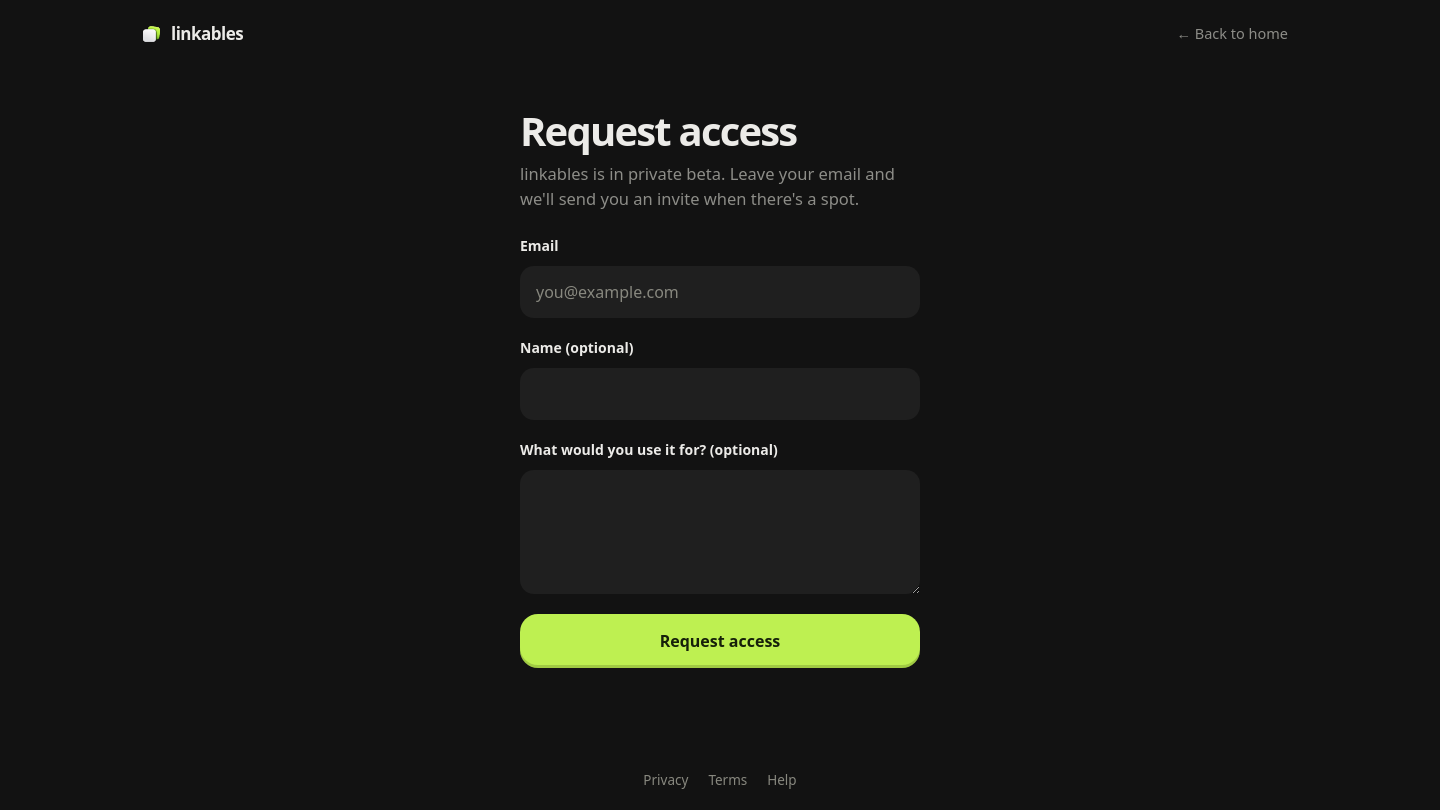
Scenario: request access › explains a NETWORK_ERROR failure and keeps the form
The image size is (1440, 810).
In the field labelled "Email": (720, 292) [520, 266, 920, 318], type "sam@example.com"
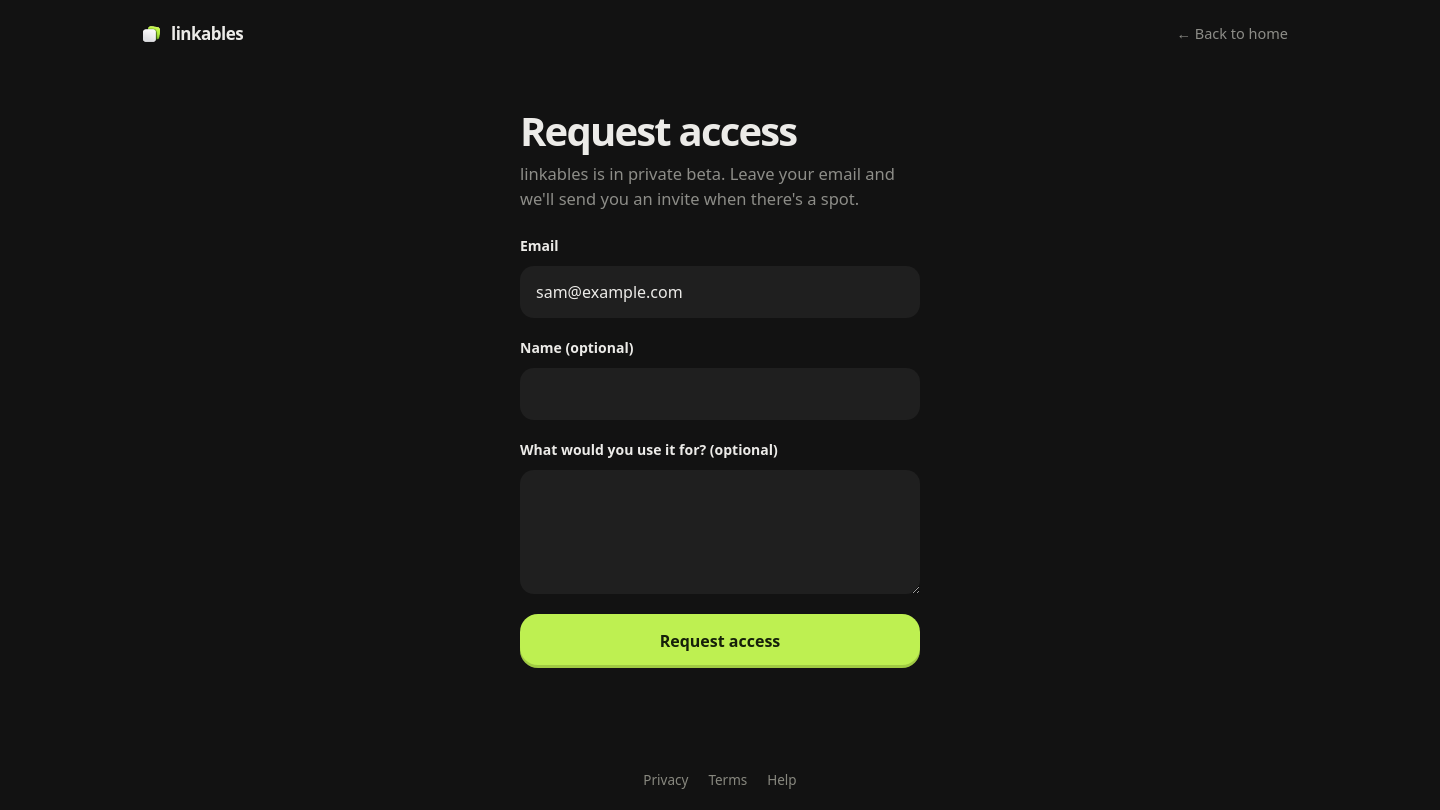
Click the button "Request access": click(720, 641) [520, 614, 920, 668]
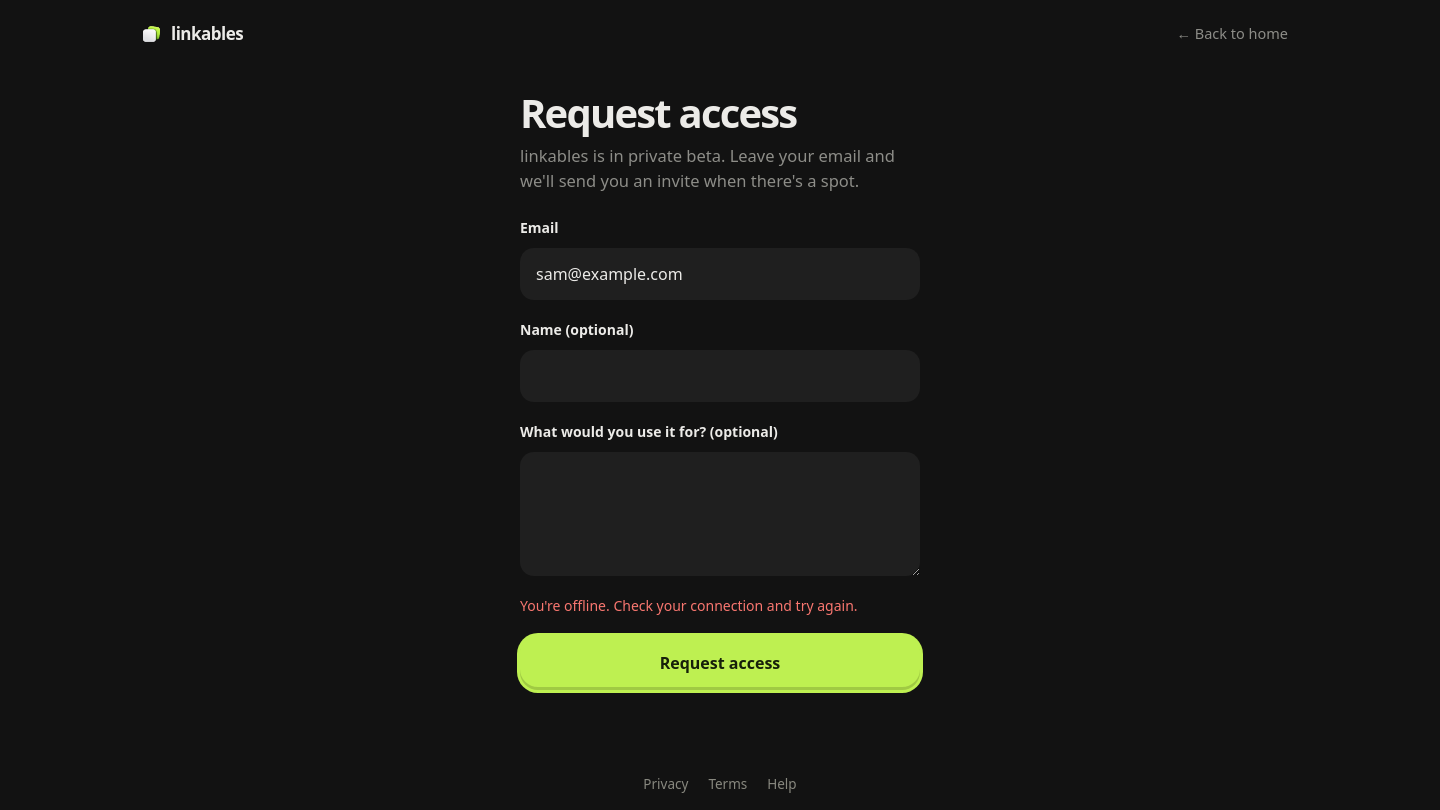
Check: the message reads "You're offline. Check your connection and try again.", box [520, 596, 858, 614]
